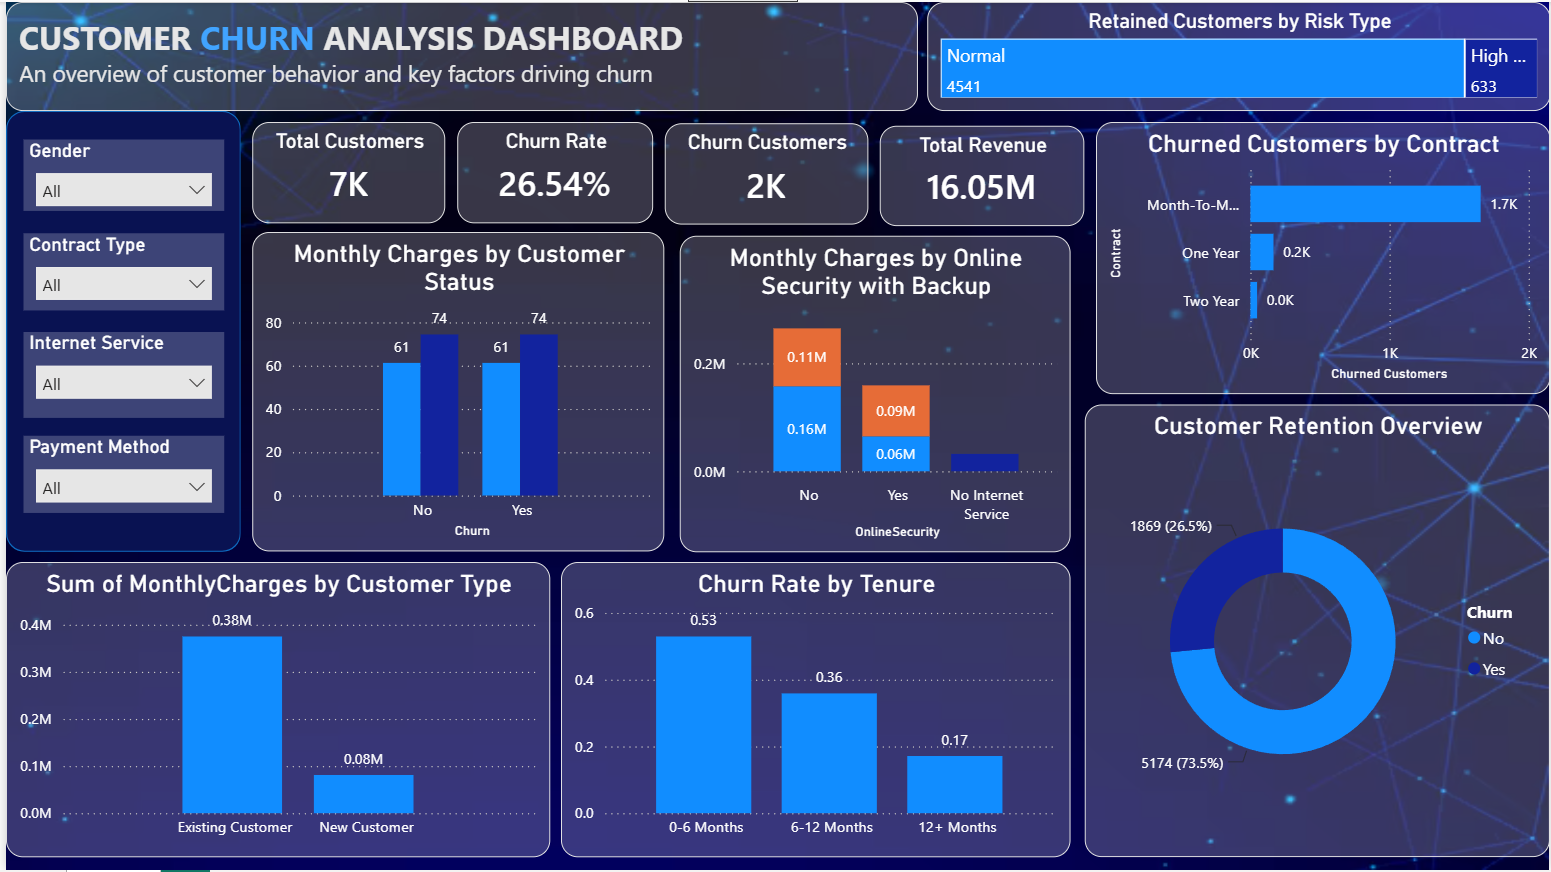

Layout of this report page (visuals, bound fields, positions):
{"tool":"powerbi","page":{"name":"Page 1","canvas":[1280,720],"ordinal":0},"visuals":[{"type":"shape","box":[0,90.3,194.8,365.8],"z":0},{"type":"textbox","box":[0,0,755.8,90.7],"z":1000},{"type":"slicer","title":"Gender","fields":{"Values":["telco_churn_unclean.gender"]},"box":[14.3,114,166.3,59.4],"z":2000},{"type":"slicer","title":"Contract Type","fields":{"Values":["telco_churn_unclean.Contract"]},"box":[14.3,191.2,166.3,64.1],"z":3000},{"type":"slicer","title":"Internet Service","fields":{"Values":["telco_churn_unclean.InternetService"]},"box":[14.3,273.1,166.3,71.3],"z":4000},{"type":"slicer","title":"Payment Method","fields":{"Values":["telco_churn_unclean.PaymentMethod"]},"box":[14.3,359.8,166.3,64.1],"z":5000},{"type":"treemap","fields":{"Values":["Calculated Measures.Retained Customers"],"Group":["telco_churn_unclean.Risk Type"]},"box":[763.8,0,517,90.4],"z":6000},{"type":"cardVisual","title":"Total Customers","fields":{"Data":["Calculated Measures.Total Customers"]},"box":[204.3,99.8,160.3,84.3],"z":7000},{"type":"cardVisual","title":"Churn Rate","fields":{"Data":["Calculated Measures.Churn Rate %"]},"box":[374.1,99.8,162.7,84.3],"z":8000},{"type":"cardVisual","title":"Churn Customers","fields":{"Data":["Calculated Measures.Churned Customers"]},"box":[546.3,100.9,168.6,84.3],"z":9000},{"type":"donutChart","title":"Customer Retention Overview","fields":{"Category":["telco_churn_unclean.Churn"],"Y":["Calculated Measures.Total Customers"]},"box":[894.3,333.7,386,375.3],"z":10000},{"type":"barChart","fields":{"Y":["Calculated Measures.Churned Customers"],"Category":["telco_churn_unclean.Contract"]},"box":[903.8,99.8,376.5,225.6],"z":11000},{"type":"columnChart","title":"Monthly Charges by Online Security with Backup","fields":{"Category":["telco_churn_unclean.OnlineSecurity"],"Y":["Sum(telco_churn_unclean.MonthlyCharges)"],"Series":["telco_churn_unclean.OnlineBackup"]},"box":[558.2,193.6,324.2,262.5],"z":12000},{"type":"clusteredColumnChart","fields":{"Category":["telco_churn_unclean.Customer Type"],"Y":["Sum(telco_churn_unclean.MonthlyCharges)"]},"box":[0,464.4,451.3,244.6],"z":13000},{"type":"columnChart","title":"Churn Rate by Tenure","fields":{"Y":["Calculated Measures.Churn Rate %"],"Category":["telco_churn_unclean.Tenure Band"]},"box":[459.6,464.4,422.8,244.6],"z":14000},{"type":"clusteredColumnChart","title":"Monthly Charges by Customer Status","fields":{"Y":["Calculated Measures.Average Month Charges(Retained)","Calculated Measures.Average Monthly Charges(Churned)"],"Category":["telco_churn_unclean.Churn"]},"box":[204.3,190.9,341.7,264.6],"z":15000},{"type":"cardVisual","title":"Total Revenue","fields":{"Data":["Sum(telco_churn_unclean.TotalCharges)"]},"box":[724.4,102.1,169.8,83.1],"z":15001}]}

Visuals, with their boxes in screenshot pixels (x1, y1, x2, y2), scaled from the page's 1280x720 canvas onto the 1551x872 screenshot:
shape: {"left": 0, "top": 109, "right": 236, "bottom": 552}
textbox: {"left": 0, "top": 0, "right": 916, "bottom": 110}
"Gender" slicer: {"left": 17, "top": 138, "right": 219, "bottom": 210}
"Contract Type" slicer: {"left": 17, "top": 232, "right": 219, "bottom": 309}
"Internet Service" slicer: {"left": 17, "top": 331, "right": 219, "bottom": 417}
"Payment Method" slicer: {"left": 17, "top": 436, "right": 219, "bottom": 513}
treemap - Calculated Measures.Retained Customers x telco_churn_unclean.Risk Type: {"left": 926, "top": 0, "right": 1550, "bottom": 109}
"Total Customers" cardVisual: {"left": 248, "top": 121, "right": 442, "bottom": 223}
"Churn Rate" cardVisual: {"left": 453, "top": 121, "right": 650, "bottom": 223}
"Churn Customers" cardVisual: {"left": 662, "top": 122, "right": 866, "bottom": 224}
"Customer Retention Overview" donutChart: {"left": 1084, "top": 404, "right": 1550, "bottom": 859}
barChart - Calculated Measures.Churned Customers x telco_churn_unclean.Contract: {"left": 1095, "top": 121, "right": 1550, "bottom": 394}
"Monthly Charges by Online Security with Backup" columnChart: {"left": 676, "top": 234, "right": 1069, "bottom": 552}
clusteredColumnChart - telco_churn_unclean.Customer Type x Sum(telco_churn_unclean.MonthlyCharges): {"left": 0, "top": 562, "right": 547, "bottom": 859}
"Churn Rate by Tenure" columnChart: {"left": 557, "top": 562, "right": 1069, "bottom": 859}
"Monthly Charges by Customer Status" clusteredColumnChart: {"left": 248, "top": 231, "right": 662, "bottom": 552}
"Total Revenue" cardVisual: {"left": 878, "top": 124, "right": 1084, "bottom": 224}
